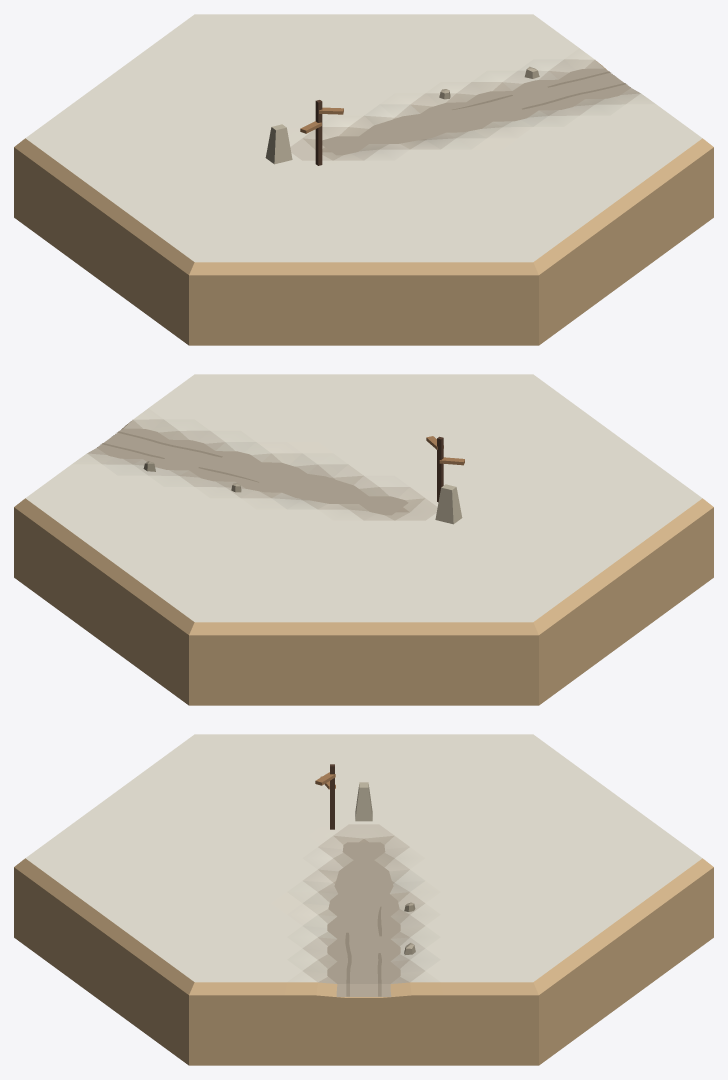
Rendered from road_end_snow.fbx.
The picture shows the model from 3 angles, top to bottom: view 1: azimuth 30°, elevation 25°; view 2: azimuth 150°, elevation 25°; view 3: azimuth 270°, elevation 25°; orthographic projection.
Visible parts, largest first — view 1: road_end_snow; view 2: road_end_snow; view 3: road_end_snow.
Boxes of the visible parts, bbox=[...] form: road_end_snow: bbox=[14, 14, 713, 345]; road_end_snow: bbox=[14, 374, 713, 705]; road_end_snow: bbox=[14, 734, 713, 1065].
Size of the model in its own units: 1.73 by 0.45 by 2.
